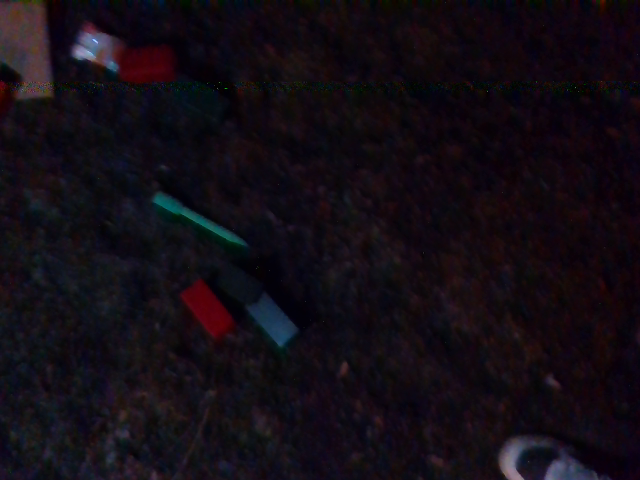Probe: (149, 186, 262, 254)
